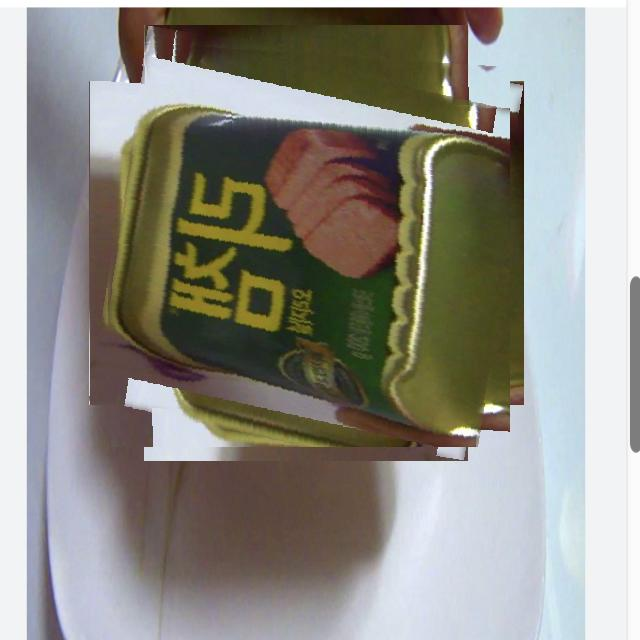recyclable: (102, 40, 510, 447)
